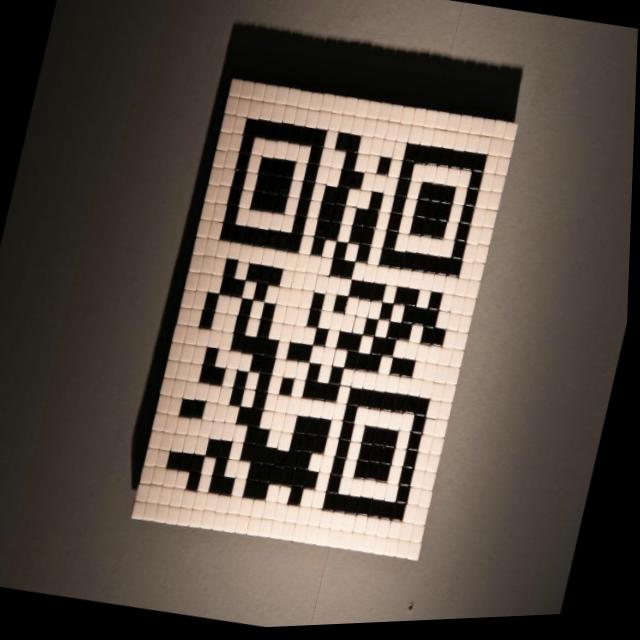qrcode: (165, 113, 490, 534)
